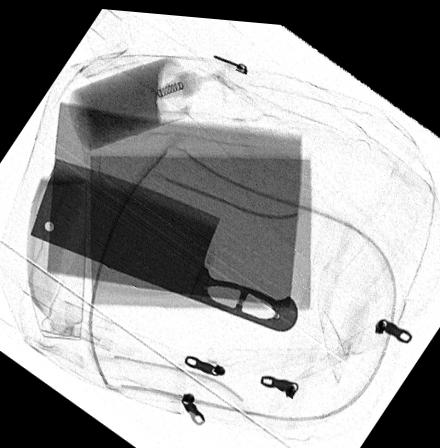Knife: (29, 154, 299, 327)
